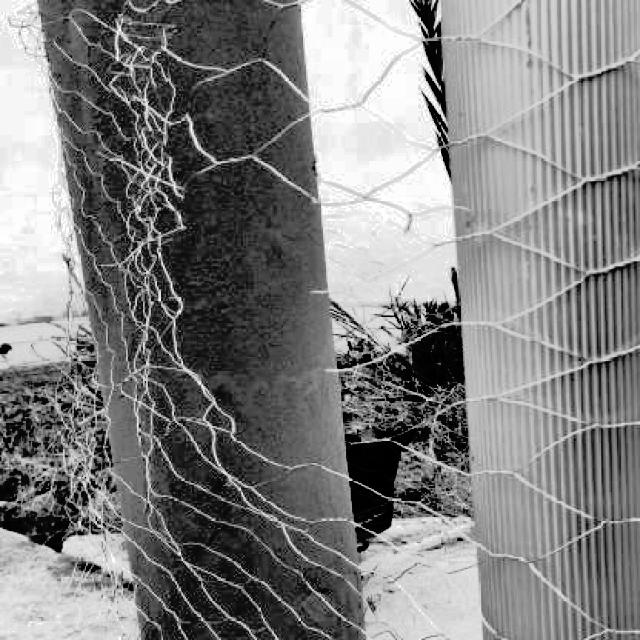anomaly-fence: (83, 4, 583, 640)
